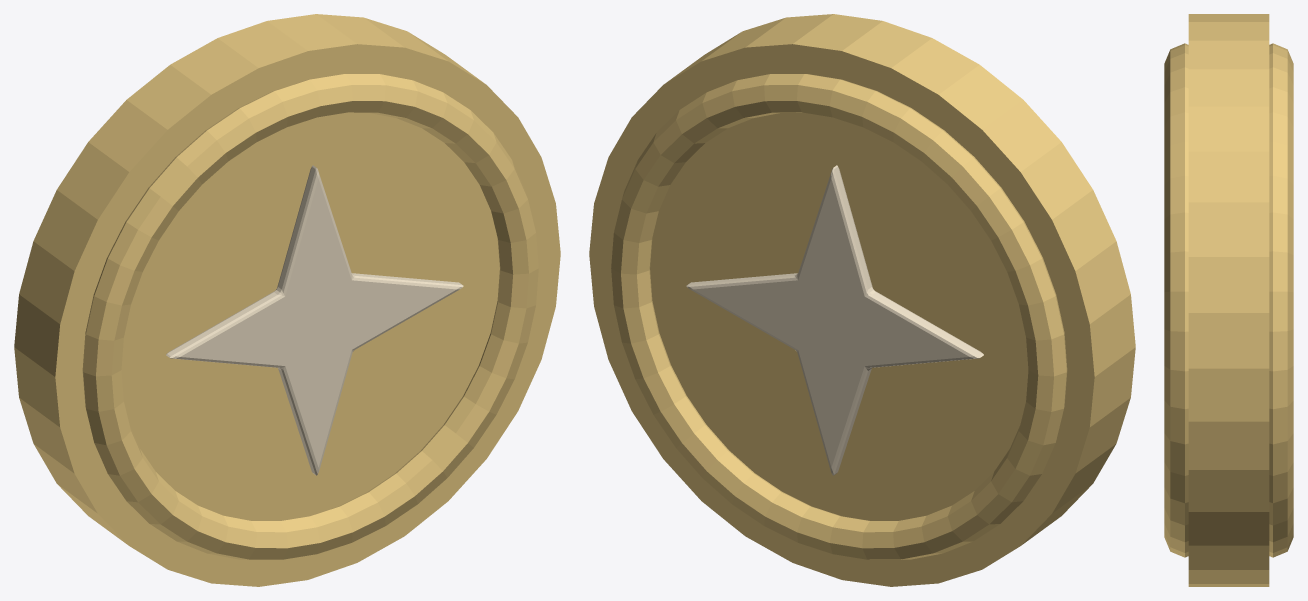
Rendered from coin.glb.
3 views of the same model, side by side, from view 1: azimuth 30°, elevation 25°; view 2: azimuth 150°, elevation 25°; view 3: azimuth 270°, elevation 25° (orthographic).
Parts seen in each view (by area): view 1: Coin_body, Coin_rim, Coin_star; view 2: Coin_body, Coin_rim.001, Coin_star.001; view 3: Coin_body, Coin_rim, Coin_rim.001.
Part boxes in pixels (x1,y1,x2,y2): Coin_body: (14, 14, 560, 586); Coin_rim: (82, 74, 538, 559); Coin_star: (166, 165, 463, 475); Coin_body: (589, 14, 1135, 586); Coin_rim.001: (611, 74, 1067, 559); Coin_star.001: (686, 165, 983, 475); Coin_body: (1188, 14, 1269, 586); Coin_rim: (1164, 43, 1188, 557); Coin_rim.001: (1269, 43, 1293, 557).
Bounding box in the file's own units: 0.78 × 0.78 × 0.176.
